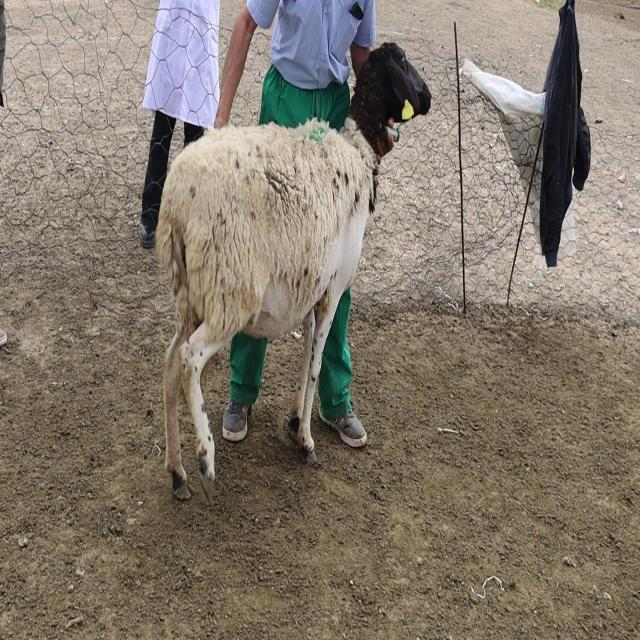Score_5: (157, 43, 431, 503)
